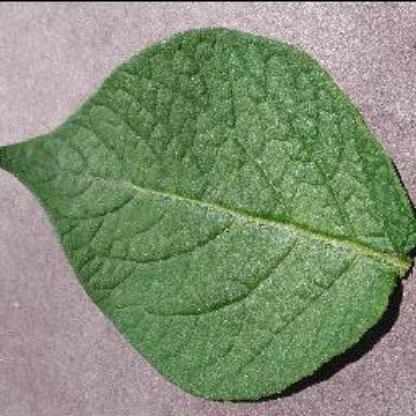Healthy-plant: (4, 23, 410, 400)
